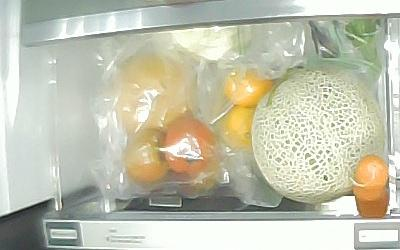cabbage_vinyl: (166, 27, 250, 62)
carrot: (354, 153, 389, 219)
melon: (251, 66, 387, 204)
pear_vinyl: (114, 56, 190, 129)
prune_vinyl: (124, 131, 169, 185), (171, 161, 218, 194)
tangerine_vinyl: (224, 67, 277, 107), (224, 105, 255, 154)
tomato_vinyl: (164, 119, 216, 174)
